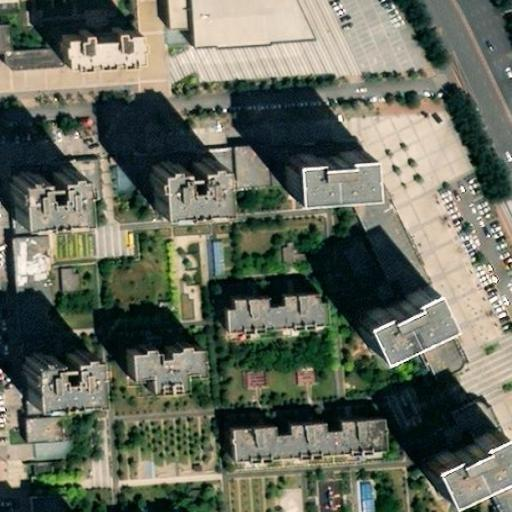building: (9, 178, 102, 472), (182, 0, 314, 79), (124, 147, 321, 193), (232, 439, 393, 490), (359, 305, 448, 379), (426, 451, 512, 512), (228, 299, 335, 347), (25, 378, 105, 435), (156, 168, 236, 223), (18, 188, 90, 248), (293, 151, 376, 203), (133, 358, 208, 409), (56, 20, 136, 56), (163, 0, 187, 49), (207, 235, 225, 274), (57, 262, 81, 291), (278, 239, 296, 262)
